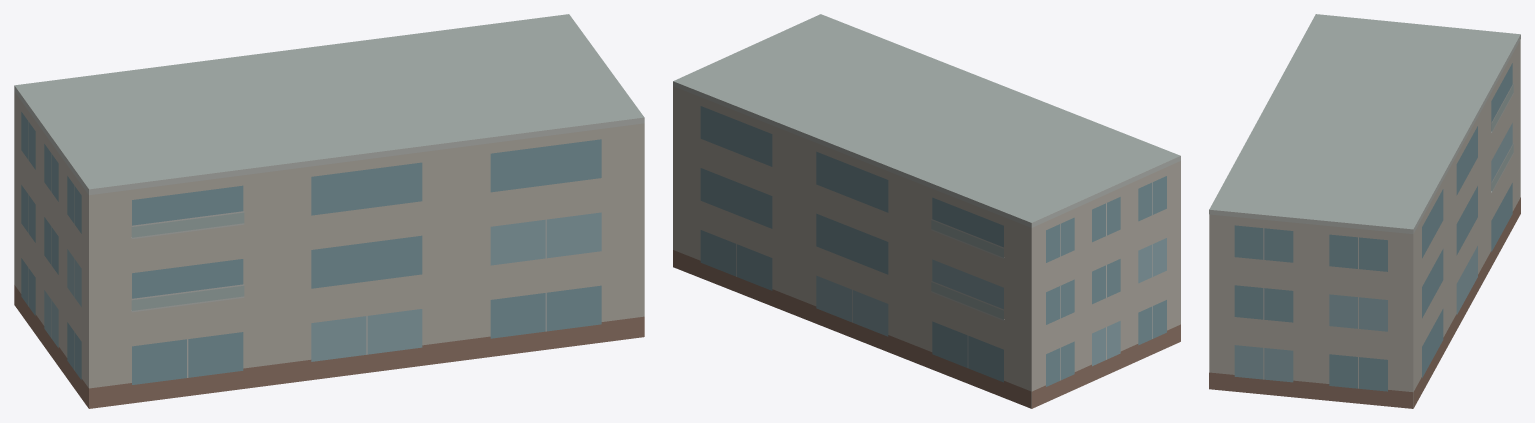
Rendered from survey-upis-32800464.glb.
3 renders of one model, left to right at view 1: azimuth 30°, elevation 25°; view 2: azimuth 150°, elevation 25°; view 3: azimuth 270°, elevation 25°, orthographic. The views are drawn at different scales.
Parts seen in each view (by area): view 1: survey-upis-32800464.tmp; view 2: survey-upis-32800464.tmp; view 3: survey-upis-32800464.tmp.
Boxes of the visible parts, x1=… form: survey-upis-32800464.tmp: x1=14, y1=14, x2=644, y2=408; survey-upis-32800464.tmp: x1=673, y1=14, x2=1180, y2=408; survey-upis-32800464.tmp: x1=1209, y1=14, x2=1520, y2=408.
Bounding box in the file's own units: 23.56 × 9.15 × 14.41.
